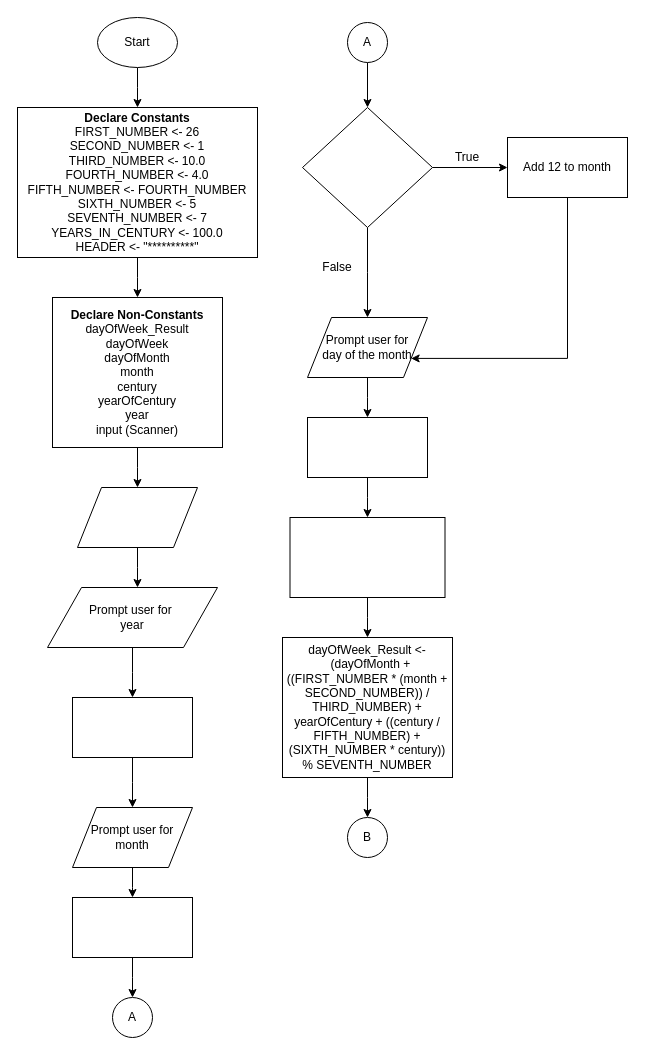
This 645x1055 diagram has some shape labels left out. The box of each missing label's shape, as (x1, y1, x2, y2) in pixels:
century <- year / YEARS_IN_CENTURY yearsInCentury <- year % YEARS_IN_CENTURY: (289, 516, 445, 598)
If month is 1 or 2: (302, 106, 432, 228)
Print Header: (76, 486, 198, 548)
Record input in dayOfMonth: (306, 416, 428, 478)
Record input in month: (72, 896, 192, 958)
Record input in year: (72, 696, 192, 758)
